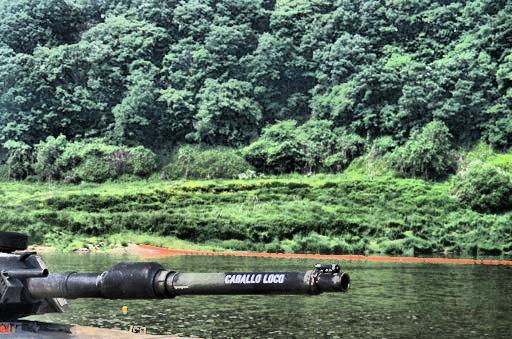tanks: (1, 234, 349, 339)
